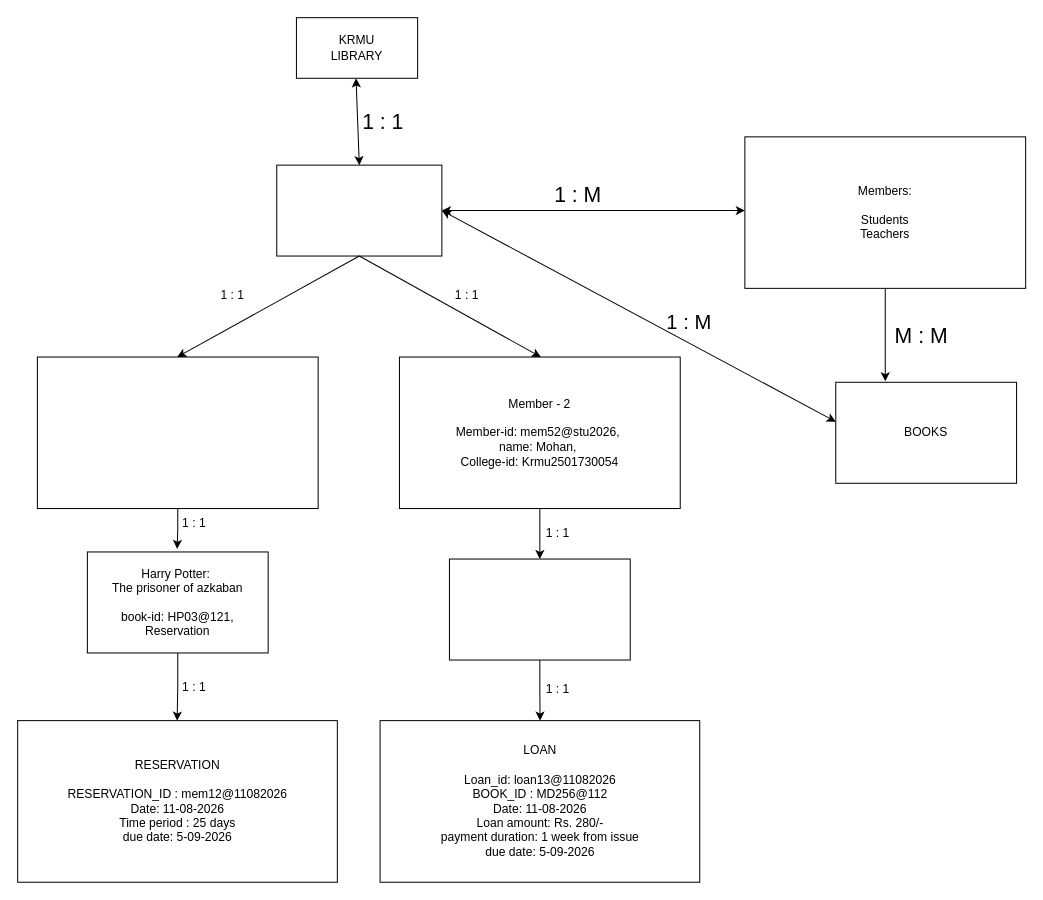
Image size: 1043x900. Some labels were removed from this diagram. Here are the shapes that lost their labels. From the top down, the box of each, then its label:
(276, 164, 442, 256): Staff Staff-id : 112@asad2024, name: Mukesh, position: Librarian
(36, 356, 318, 509): Member - 1 Member-id: mem12@stu2026, name: Rohan, College-id: Krmu2501730053
(448, 558, 630, 660): Malgudi Days book-id: MD256@112, Loan
